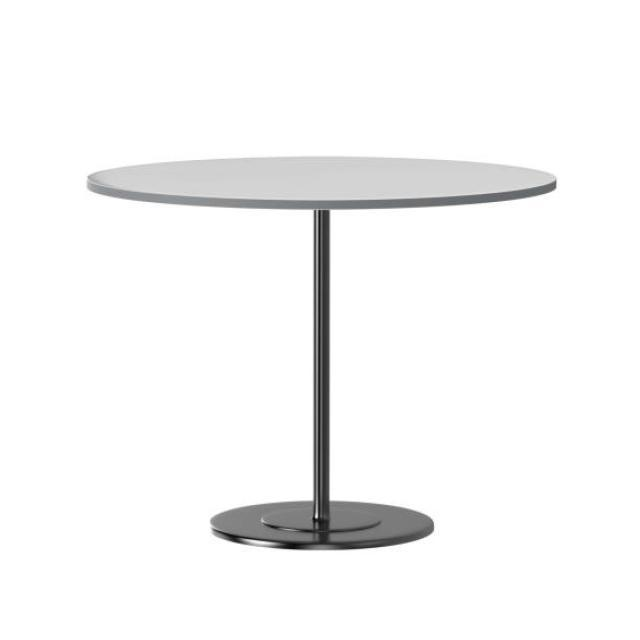table: (85, 154, 558, 550)
